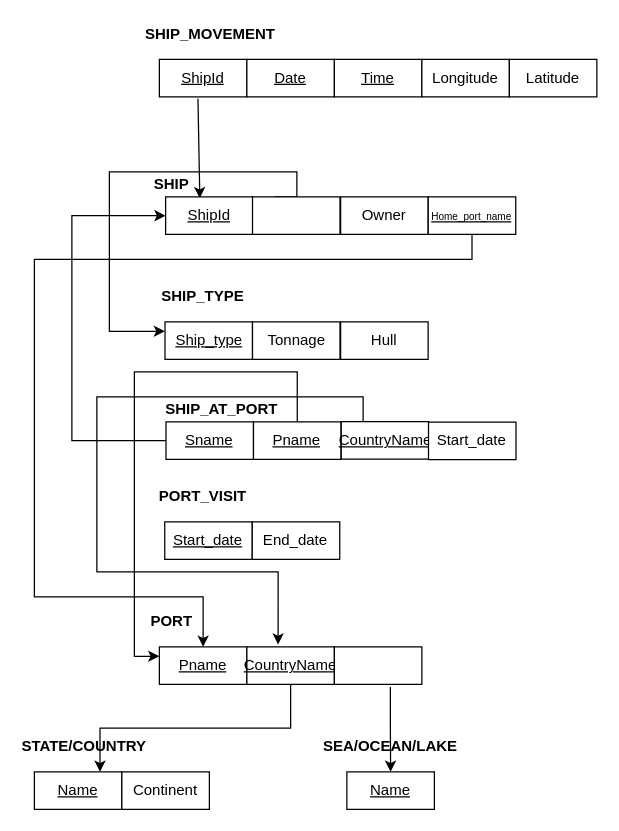
Image size: 619x831. Some labels were removed from this diagram. Each missing label, with the centre of its shape:
OceanName: (x=377, y=665)
ShipType: (x=295, y=215)
